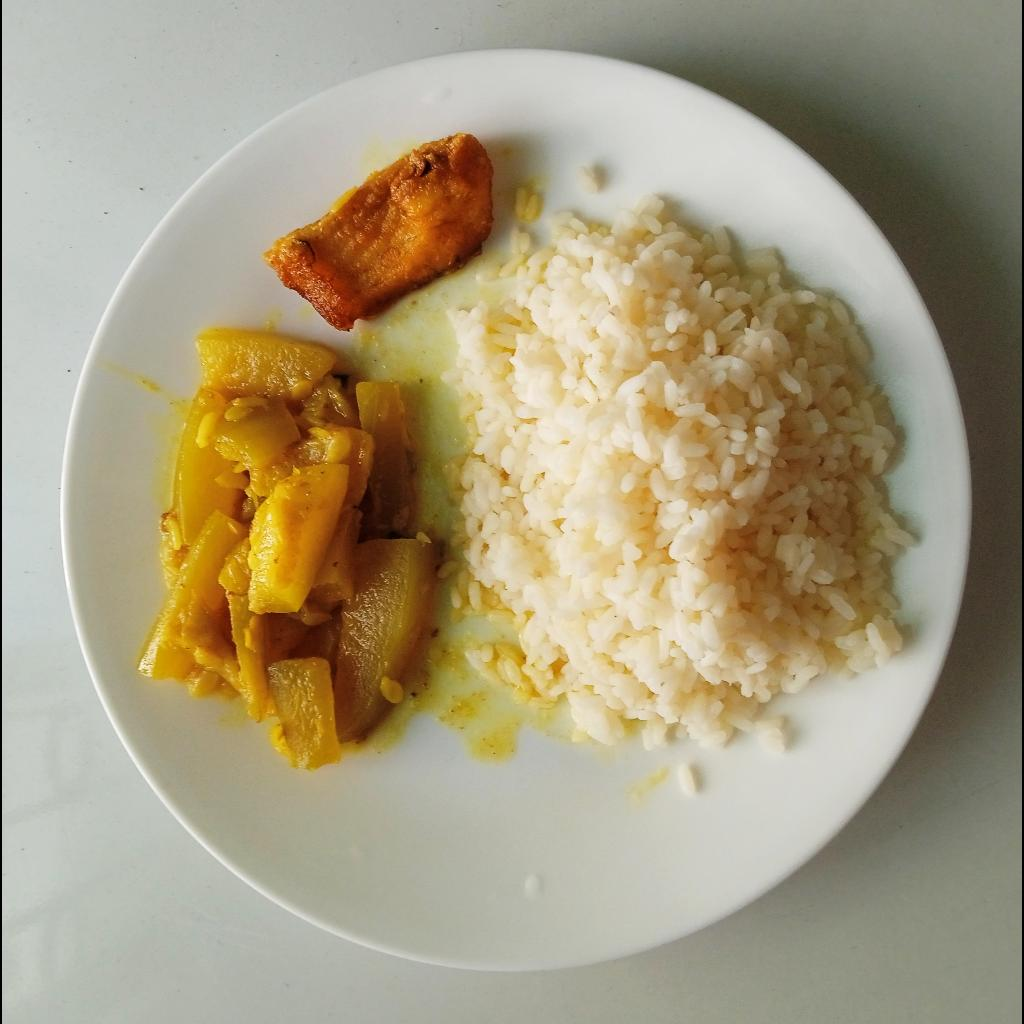fish: (254, 128, 496, 333)
potol: (138, 328, 436, 771)
rice: (440, 186, 922, 755)
